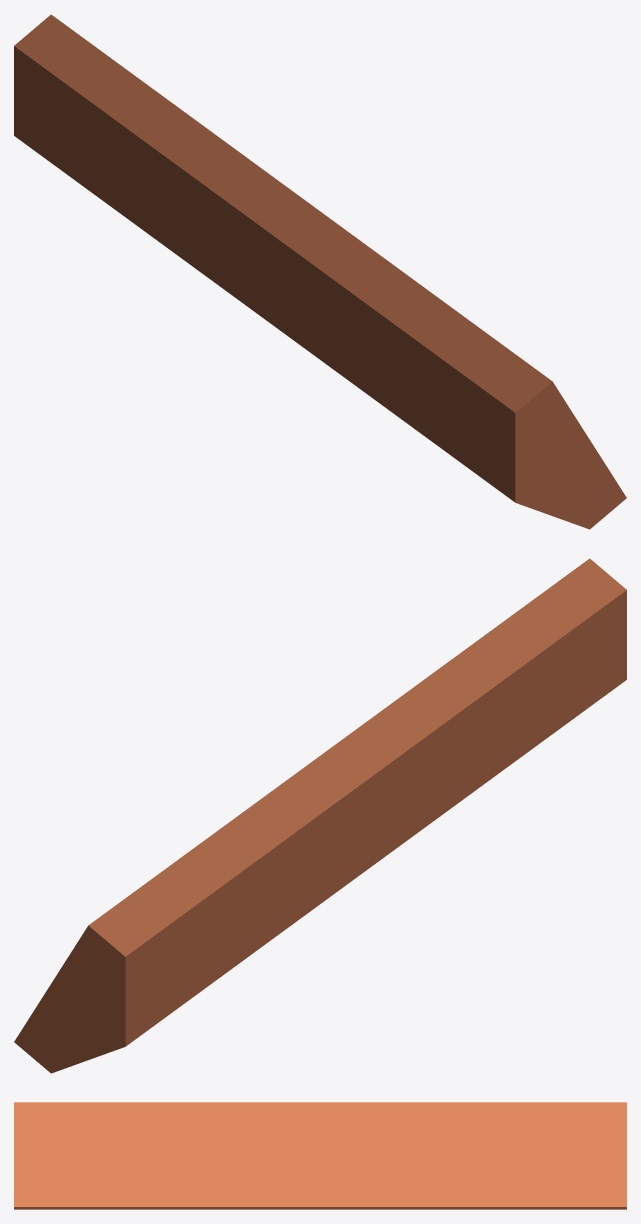
File: campfire_wood.fbx
The picture shows the model from 3 angles, top to bottom: view 1: azimuth 30°, elevation 25°; view 2: azimuth 150°, elevation 25°; view 3: azimuth 270°, elevation 25°; orthographic projection. The views are drawn at different scales.
Visible parts, largest first — view 1: campfire_wood; view 2: campfire_wood; view 3: campfire_wood.
Boxes of the visible parts, x1,y1,x2,y2 form: campfire_wood: [14, 14, 626, 529]; campfire_wood: [14, 558, 626, 1073]; campfire_wood: [14, 1102, 626, 1209].
Bounding box in the file's own units: 16.52 × 22.26 × 129.
